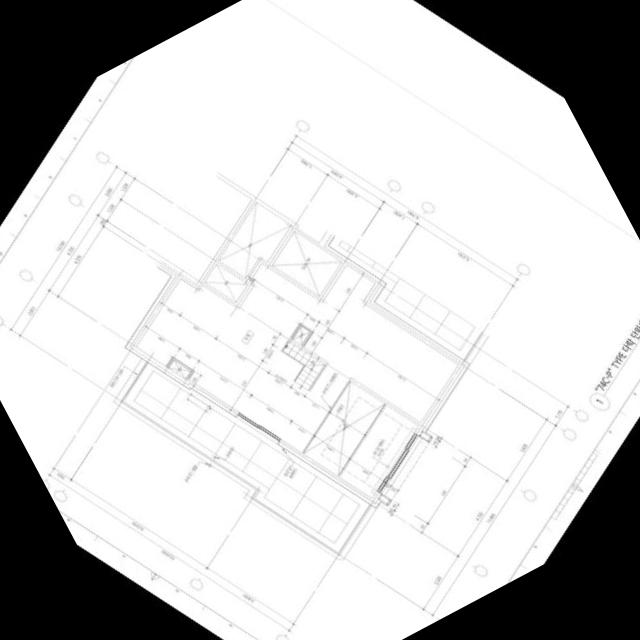background: (0, 0, 640, 640)
space_balconi: (133, 370, 360, 542)
space_other: (136, 278, 351, 451), (250, 263, 458, 421), (303, 380, 385, 475), (339, 404, 419, 497), (218, 201, 291, 277), (272, 230, 341, 295), (205, 263, 248, 301), (168, 359, 190, 378), (293, 325, 310, 344)
space_staircase: (282, 340, 325, 389)
